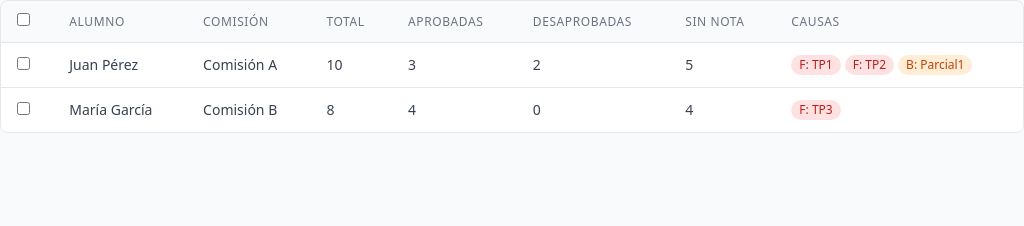
Test: AtrasadosTable › permite seleccionar alumnos y muestra contador
The image size is (1024, 226).
Click the checkbox next to "Juan Pérez" at (24, 64), box left=17, top=57, right=30, bottom=70
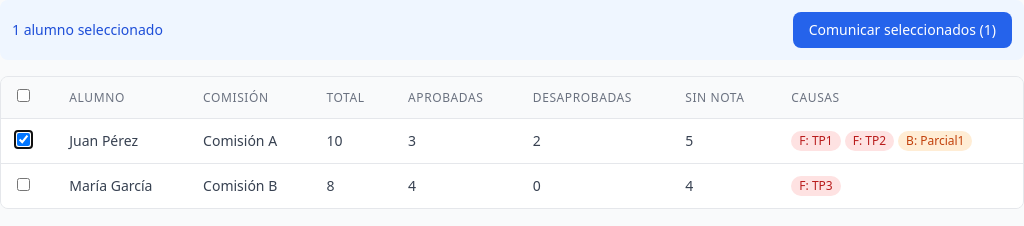
Check: the text "1 alumno seleccionado" is shown, box left=12, top=20, right=163, bottom=40
